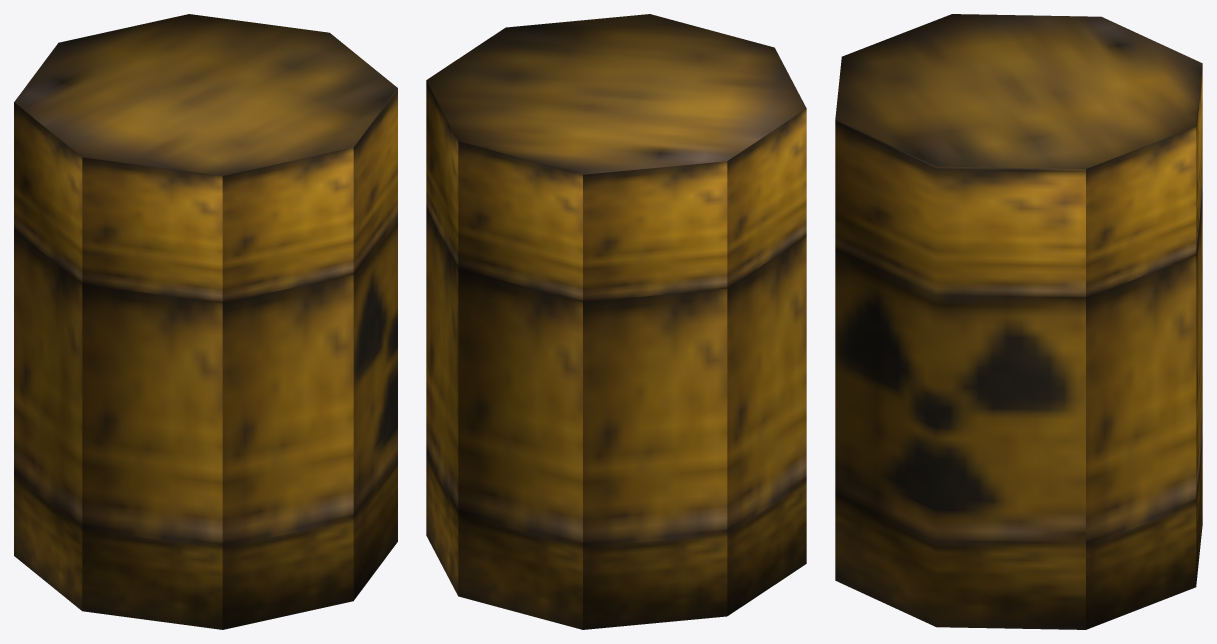
Rendered from barrel explosive.glb.
The picture shows the model from 3 angles, left to right: view 1: azimuth 30°, elevation 25°; view 2: azimuth 150°, elevation 25°; view 3: azimuth 270°, elevation 25°; orthographic projection.
Parts seen in each view (by area): view 1: Circle; view 2: Circle; view 3: Circle.
Part boxes in pixels (left/top/right/bottom): Circle: left=14, top=14, right=397, bottom=629; Circle: left=426, top=14, right=806, bottom=629; Circle: left=835, top=14, right=1202, bottom=629.
Bounding box in the file's own units: 0.7518 × 1.04 × 0.7518.
1 material, 1 textured.
